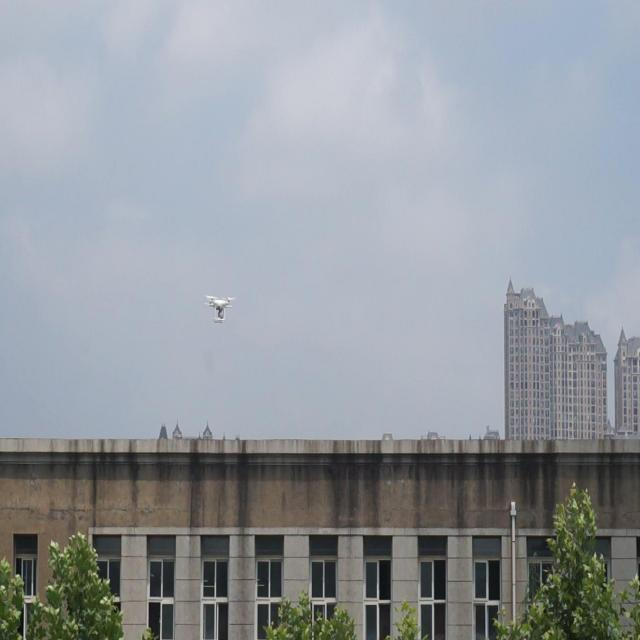UAV: (204, 295, 236, 323)
